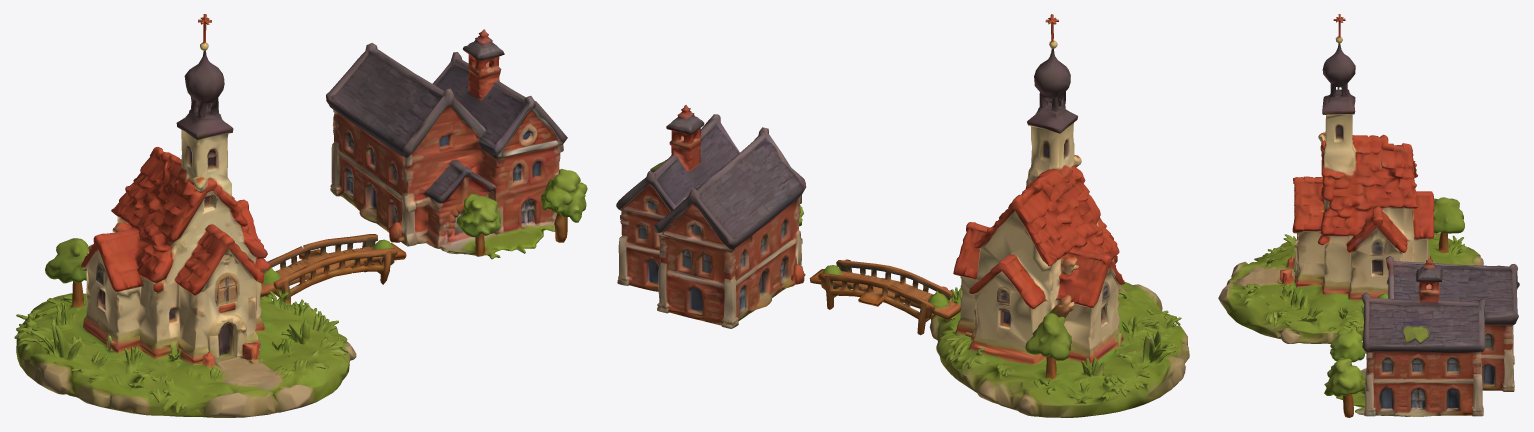
File: zwierzyniec.glb
3 renders of one model, left to right at view 1: azimuth 30°, elevation 25°; view 2: azimuth 150°, elevation 25°; view 3: azimuth 270°, elevation 25°, orthographic. The views are drawn at different scales.
Parts seen in each view (by area): view 1: tripo_node_5e987b22-2a32-4a5f-8e97-b39f5cb8baa7; view 2: tripo_node_5e987b22-2a32-4a5f-8e97-b39f5cb8baa7; view 3: tripo_node_5e987b22-2a32-4a5f-8e97-b39f5cb8baa7.
Boxes of the visible parts, <box> form: tripo_node_5e987b22-2a32-4a5f-8e97-b39f5cb8baa7: <box>14,14,587,417</box>; tripo_node_5e987b22-2a32-4a5f-8e97-b39f5cb8baa7: <box>616,14,1189,417</box>; tripo_node_5e987b22-2a32-4a5f-8e97-b39f5cb8baa7: <box>1218,14,1519,417</box>.
Bounding box in the file's own units: 0.9806 × 0.6116 × 0.5878.
Materials: 1 (1 with a texture image).
